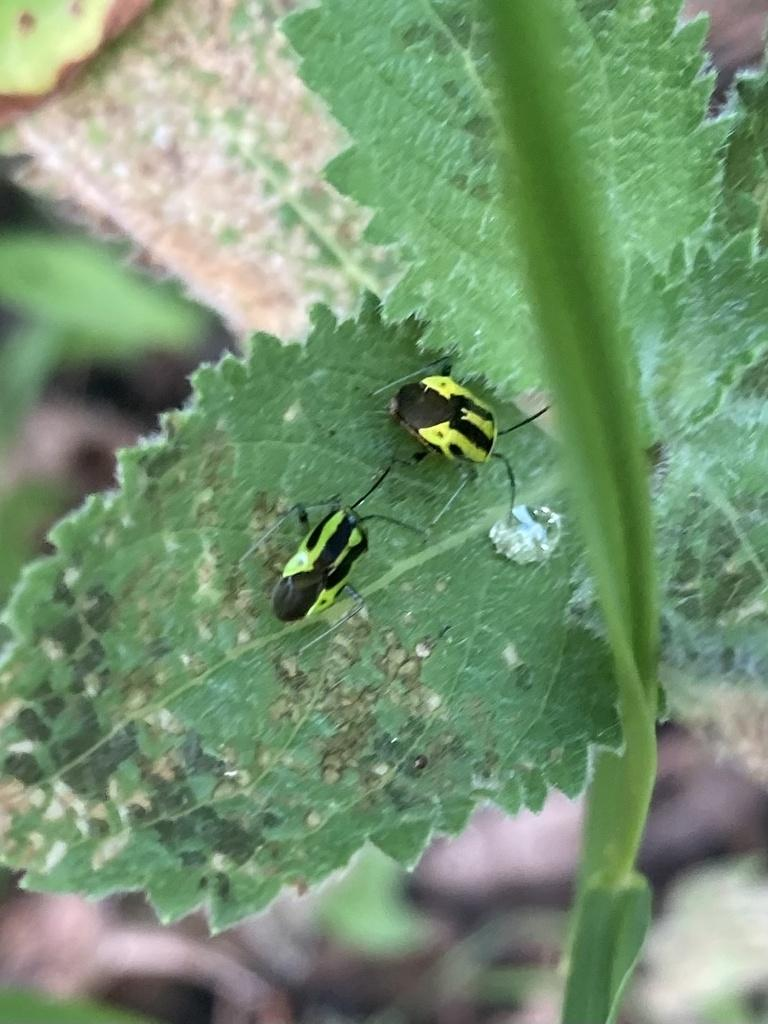plant_bugs: (366, 337, 586, 529), (224, 446, 423, 650)
